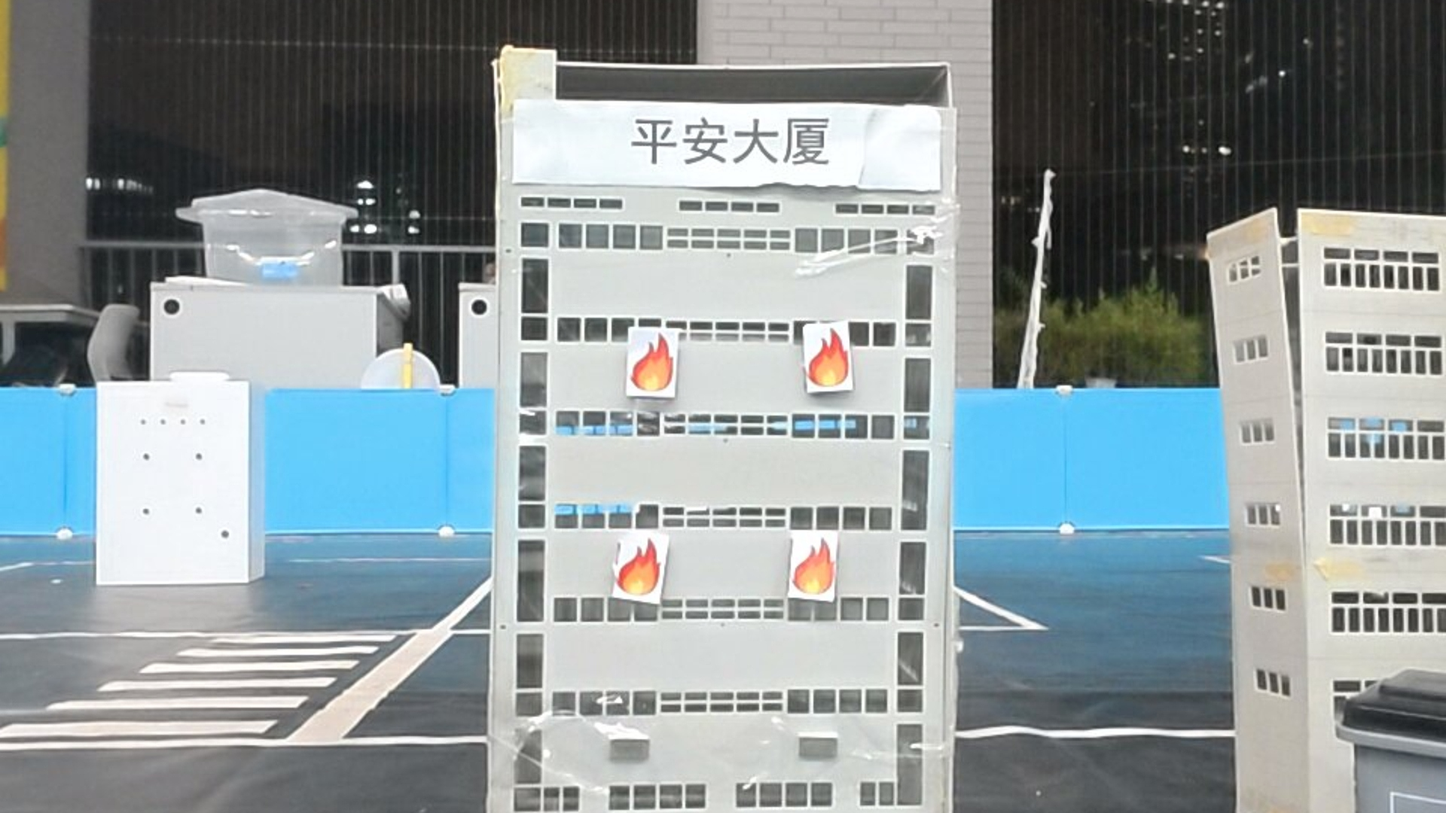fire: (615, 528, 671, 604), (627, 326, 682, 398), (802, 323, 855, 393), (789, 531, 841, 599)
